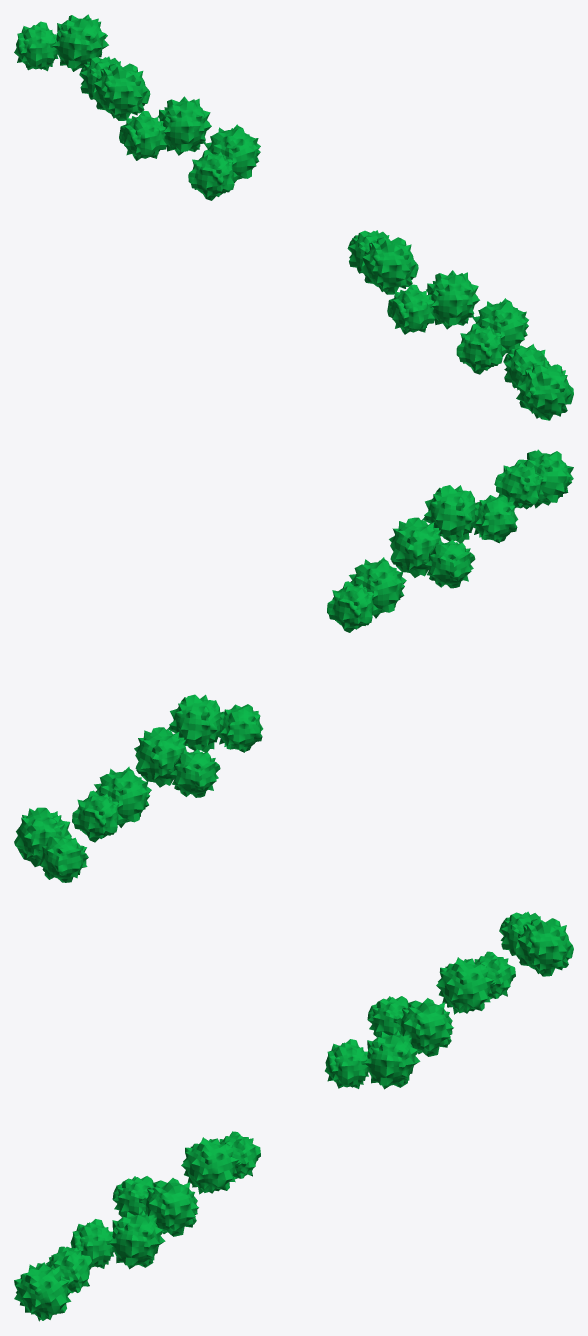
Rendered from KoronaDrzewa.obj.
3 views of the same model, one above another, from view 1: azimuth 30°, elevation 25°; view 2: azimuth 150°, elevation 25°; view 3: azimuth 330°, elevation 25° (orthographic).
Parts seen in each view (by area): view 1: Tree.001_Untitled.005; view 2: Tree.001_Untitled.005; view 3: Tree.001_Untitled.005.
Boxes of the visible parts, box(x1,y1,x2,y2) form: Tree.001_Untitled.005: box(14, 14, 573, 420); Tree.001_Untitled.005: box(14, 449, 573, 882); Tree.001_Untitled.005: box(14, 911, 573, 1321).
Size of the model in its own units: 0.6177 by 0.4167 by 5.65.
